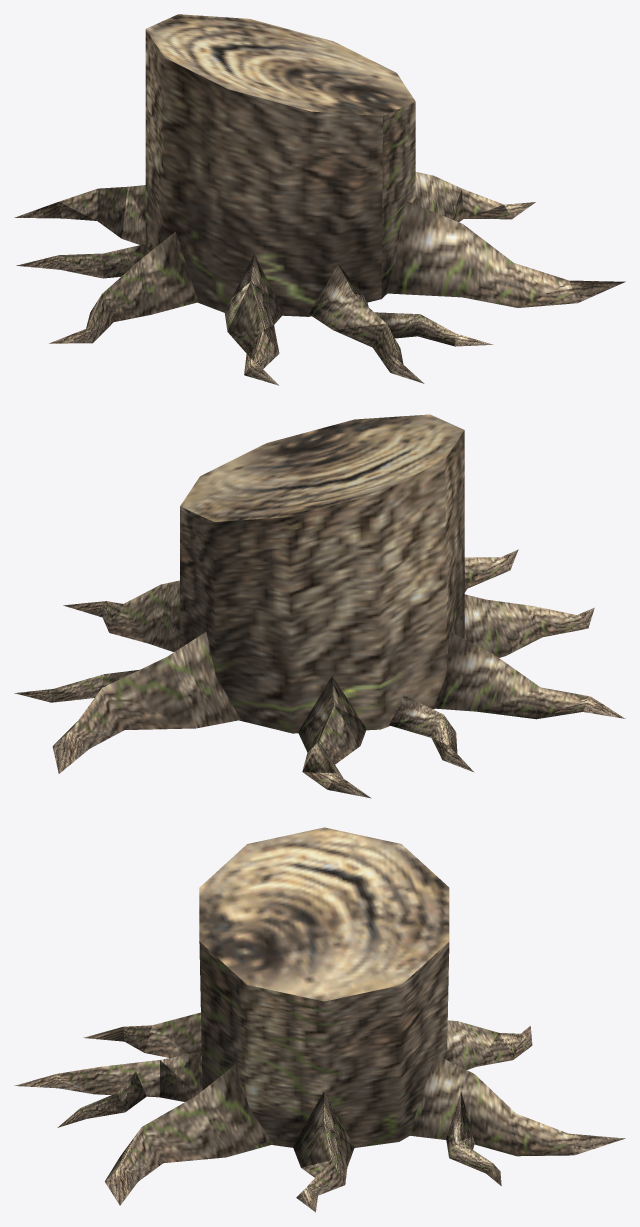
3 renders of one model, top to bottom at view 1: azimuth 30°, elevation 25°; view 2: azimuth 150°, elevation 25°; view 3: azimuth 270°, elevation 25°, orthographic. The views are drawn at different scales.
Parts seen in each view (by area): view 1: SMDImport; view 2: SMDImport; view 3: SMDImport.
Boxes of the visible parts, x1,y1,x2,y2 form: SMDImport: [14, 14, 625, 385]; SMDImport: [14, 414, 625, 798]; SMDImport: [14, 827, 625, 1212].
Size of the model in its own units: 338 by 147 by 372.
